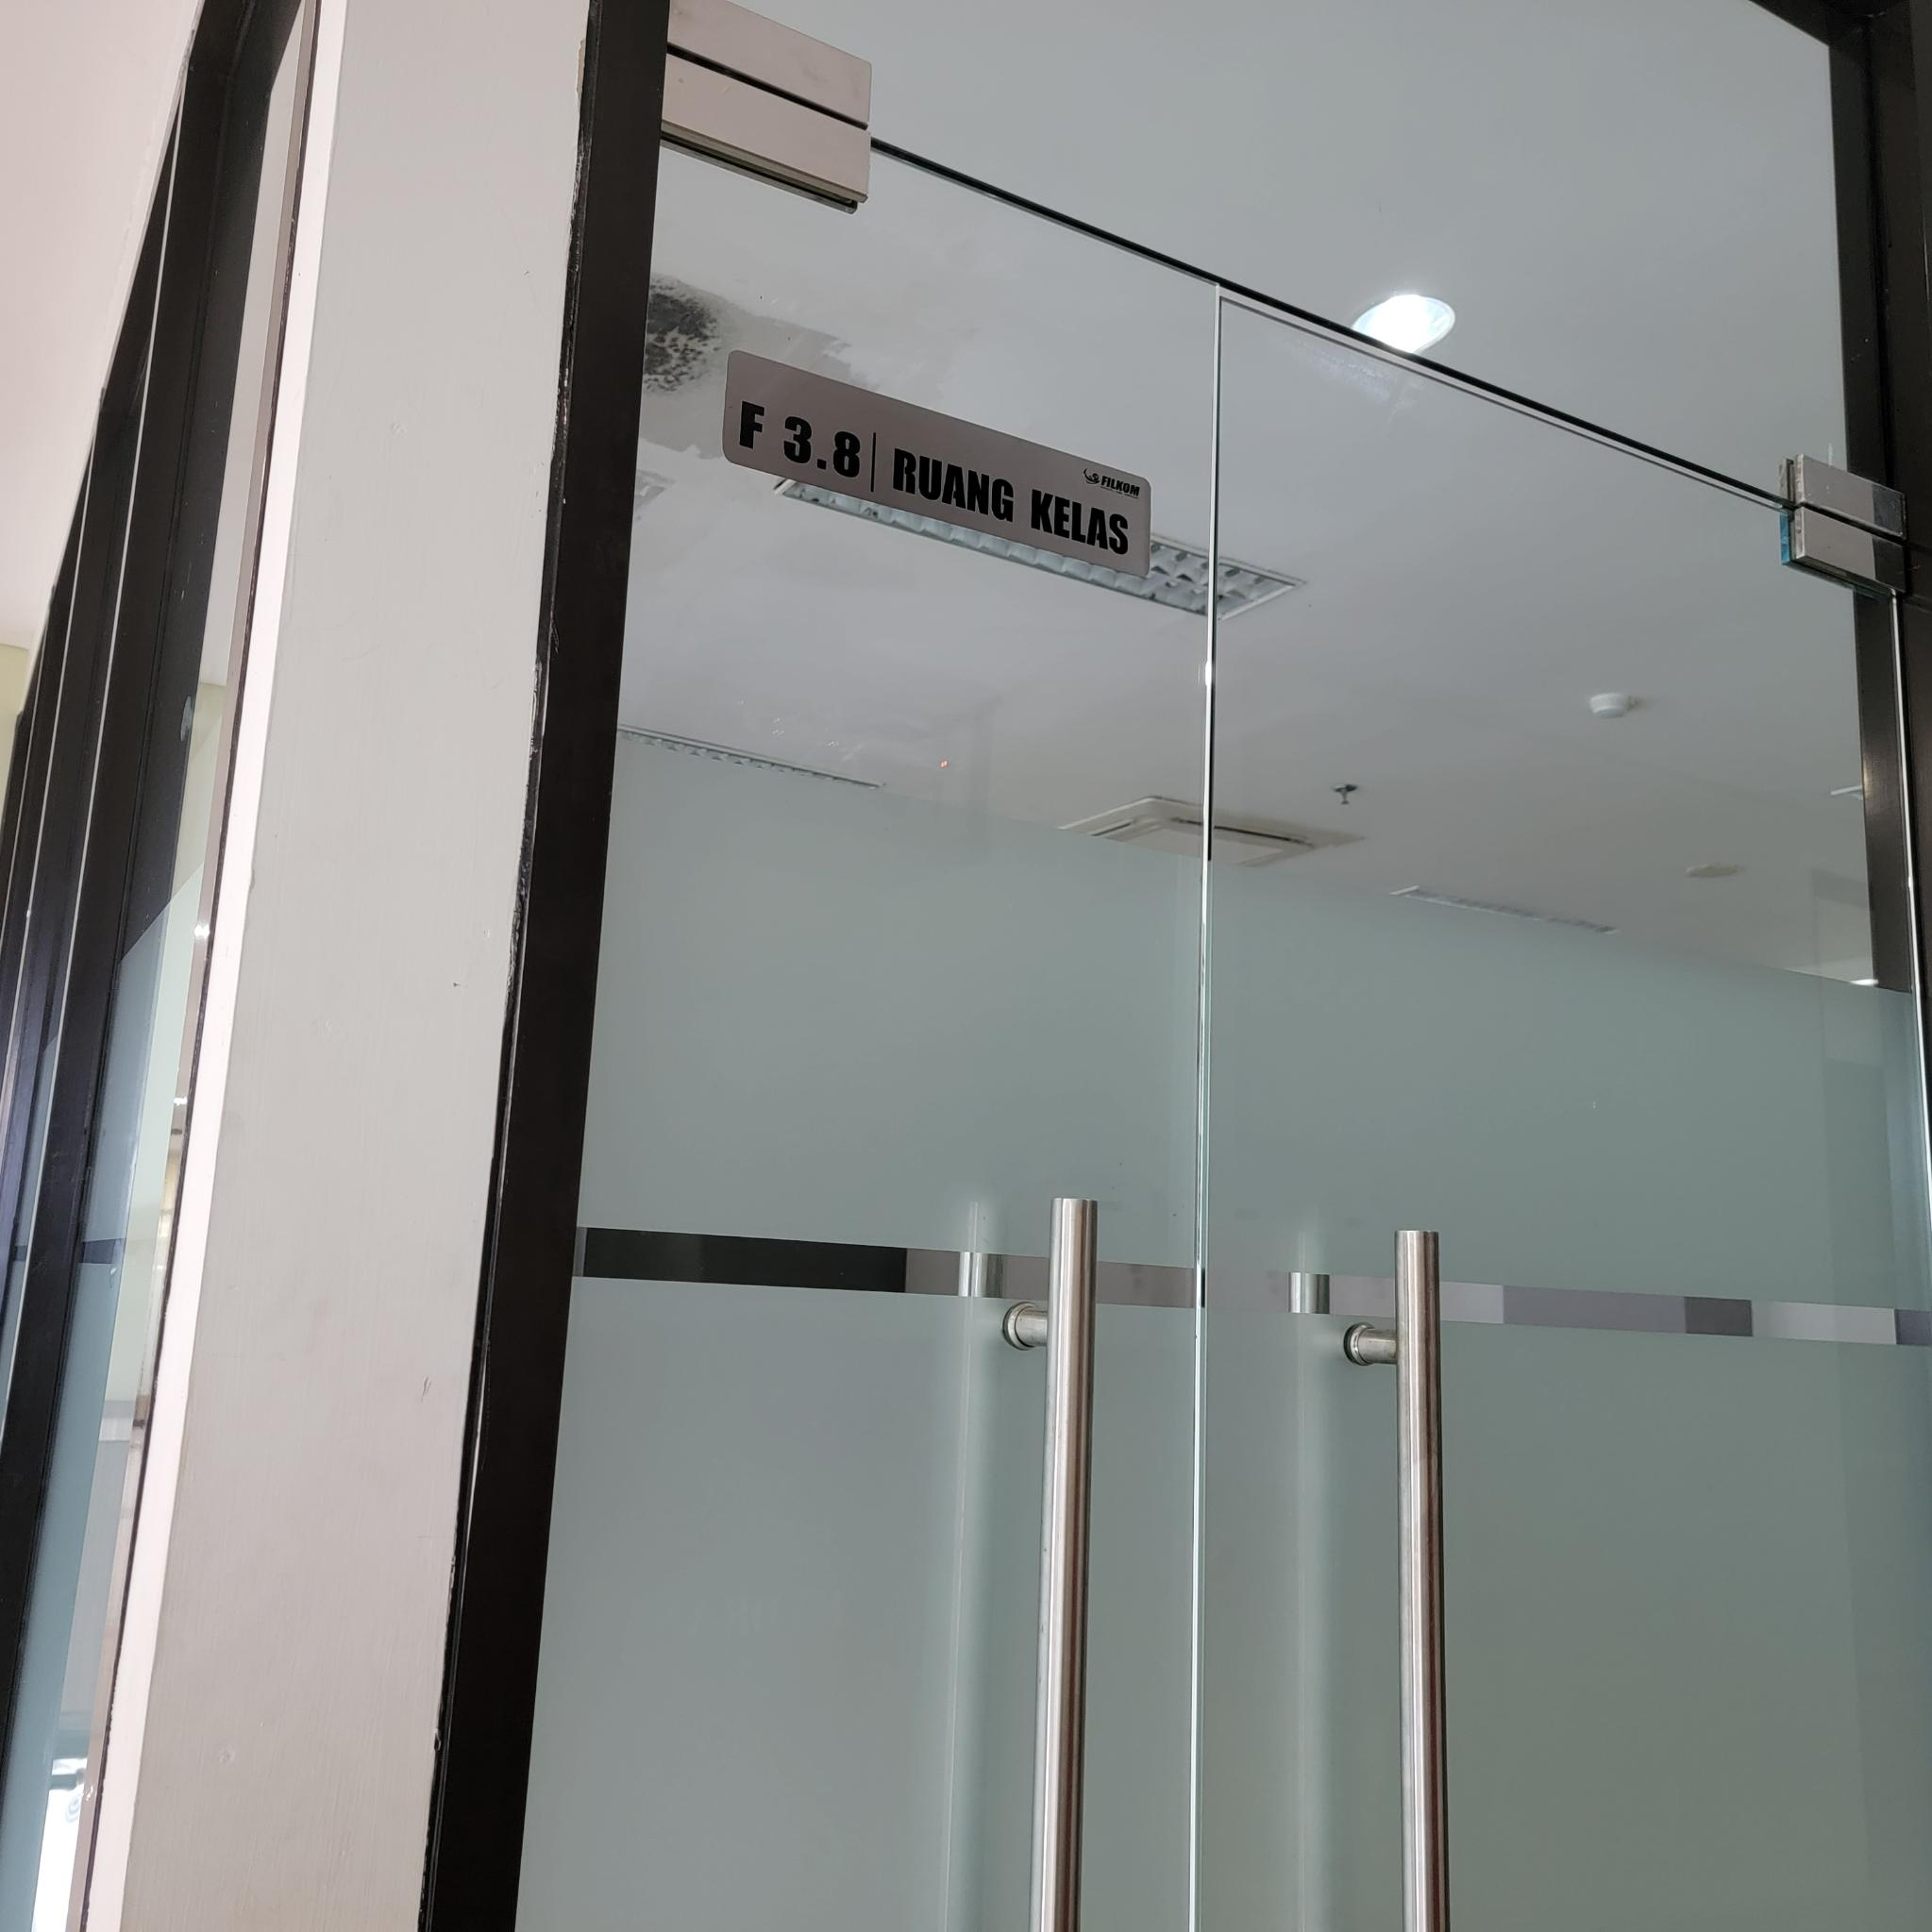plate: (724, 347, 1152, 580)
